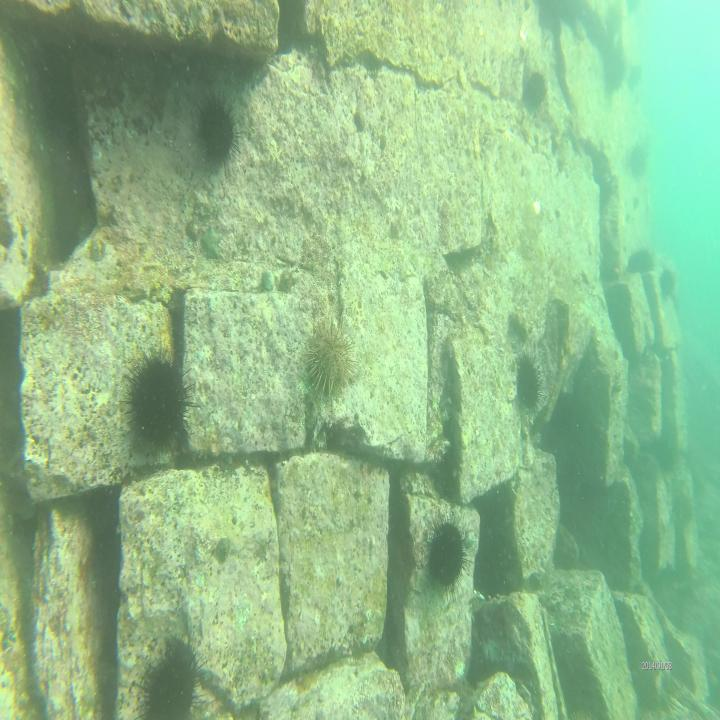echinus: (124, 333, 193, 465), (129, 629, 212, 720), (297, 308, 358, 409), (422, 504, 475, 604), (193, 90, 242, 167), (514, 348, 549, 416), (652, 431, 681, 475), (525, 65, 551, 113), (624, 243, 656, 277), (605, 49, 628, 96), (627, 140, 650, 184), (672, 493, 696, 532), (659, 264, 678, 306)
